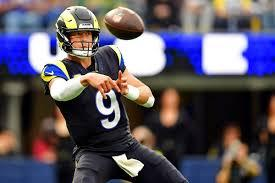americanFootball: (106, 7, 145, 39)
